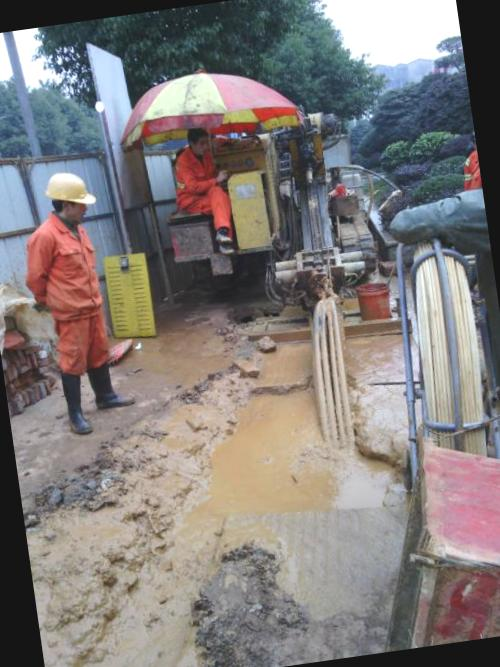no_helmet: (181, 120, 215, 159)
